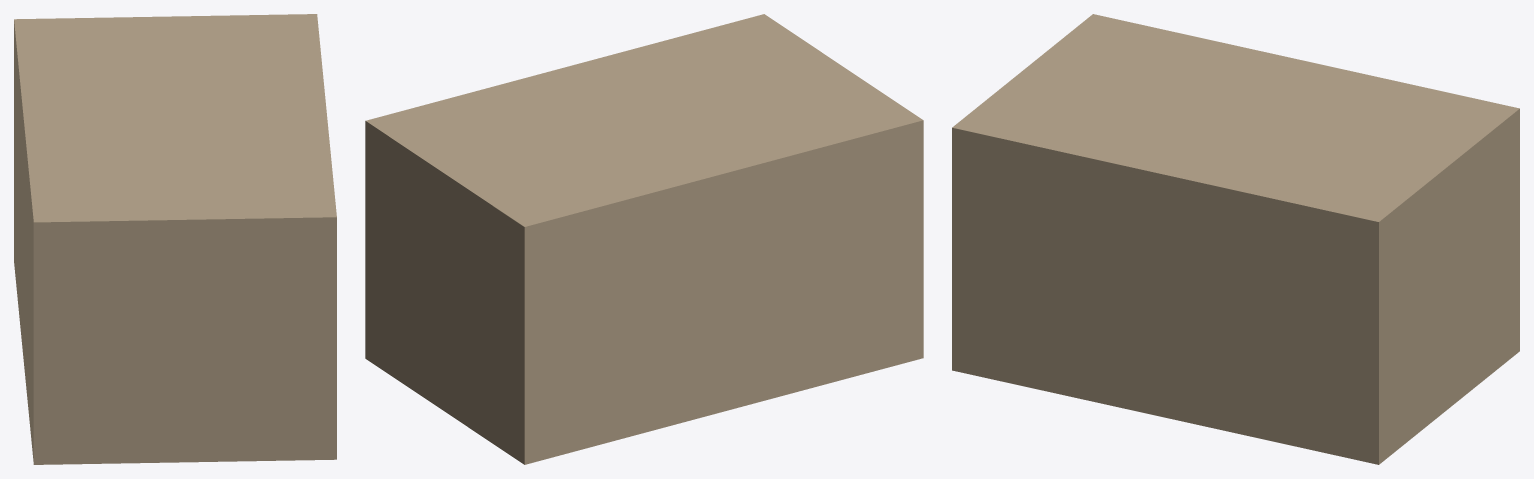
File: bld_99028058.dae
The picture shows the model from 3 angles, left to right: view 1: azimuth 30°, elevation 25°; view 2: azimuth 150°, elevation 25°; view 3: azimuth 270°, elevation 25°; orthographic projection. The views are drawn at different scales.
Parts seen in each view (by area): view 1: Villa 1; view 2: Villa 1; view 3: Villa 1.
Boxes of the visible parts, x1=… form: Villa 1: x1=14, y1=14, x2=336, y2=464; Villa 1: x1=365, y1=14, x2=923, y2=464; Villa 1: x1=952, y1=14, x2=1519, y2=464.
Size of the model in its own units: 14.71 by 16.96 by 8.
